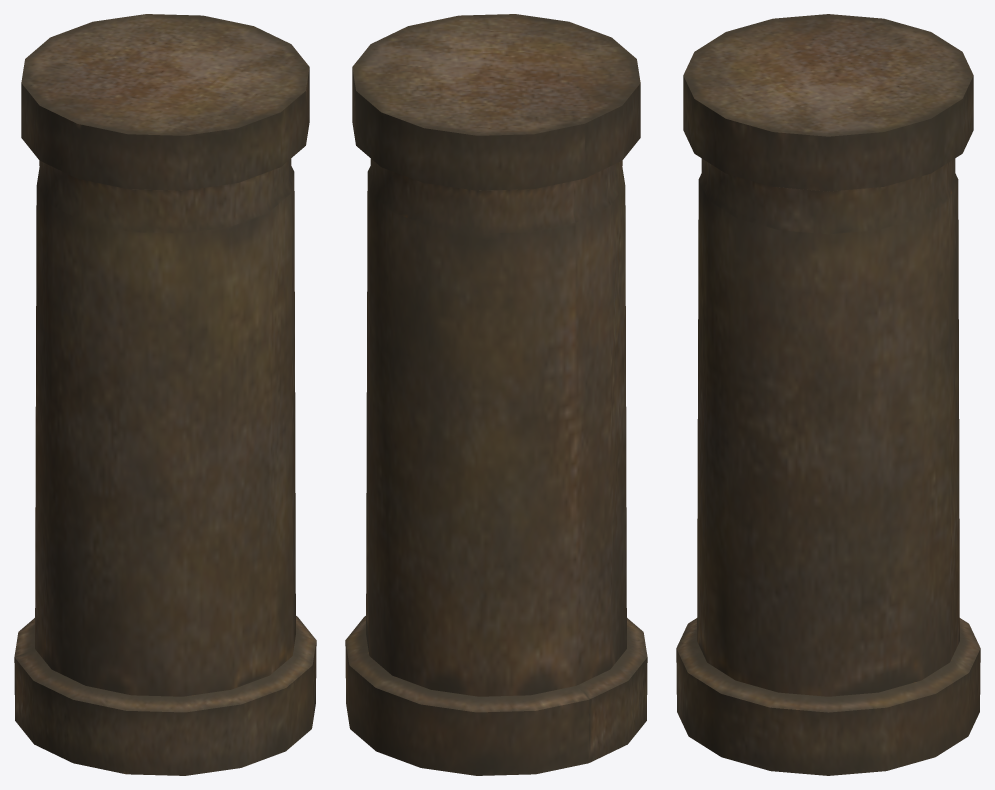
File: Puzzle Base.fbx
3 renders of one model, left to right at view 1: azimuth 30°, elevation 25°; view 2: azimuth 150°, elevation 25°; view 3: azimuth 270°, elevation 25°, orthographic.
Visible parts, largest first — view 1: Cylinder.002; view 2: Cylinder.002; view 3: Cylinder.002.
Part boxes in pixels (x1=…): Cylinder.002: x1=14, y1=14, x2=316, y2=775; Cylinder.002: x1=345, y1=14, x2=647, y2=775; Cylinder.002: x1=676, y1=14, x2=980, y2=775.
Bounding box in the file's own units: 37.49 × 86.54 × 37.49.
Materials: 1 (1 with a texture image).
